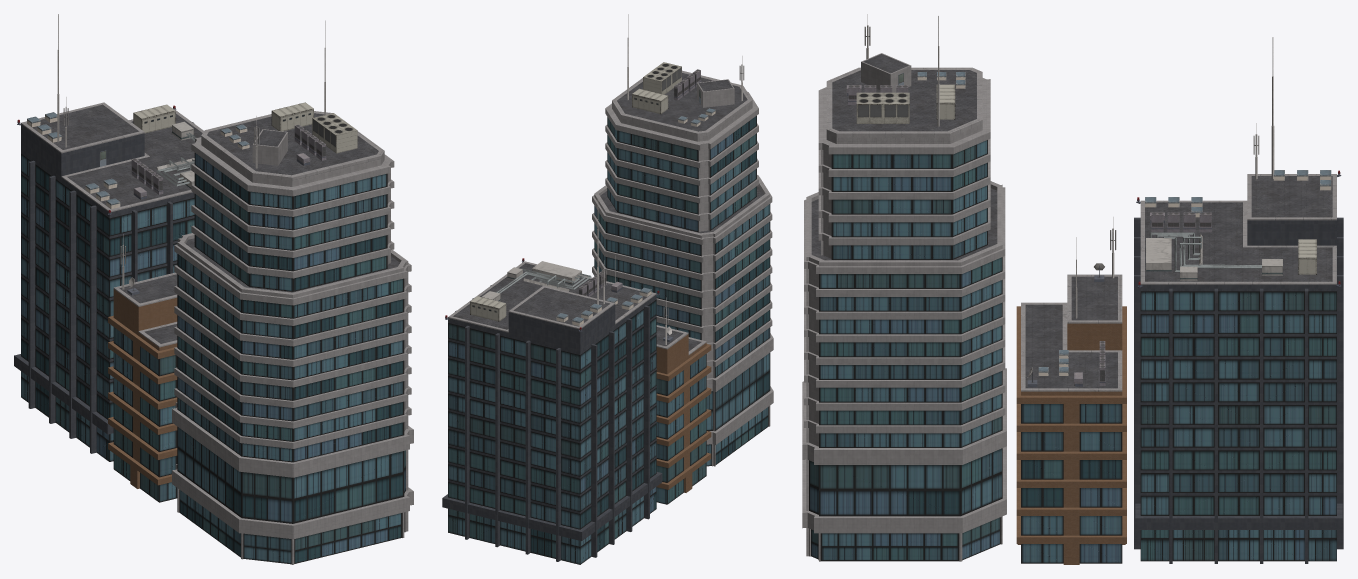
The model's file is buildSetH.FBX.
The picture shows the model from 3 angles, left to right: view 1: azimuth 30°, elevation 25°; view 2: azimuth 150°, elevation 25°; view 3: azimuth 270°, elevation 25°; orthographic projection. The views are drawn at different scales.
Parts seen in each view (by area): view 1: buildSetH; view 2: buildSetH; view 3: buildSetH.
Boxes of the visible parts, x1,y1,x2,y2 form: buildSetH: (14, 14, 413, 564); buildSetH: (442, 14, 773, 564); buildSetH: (802, 14, 1343, 564).
Size of what is drawn, in the model's own units: 916 by 2296 by 2479.
